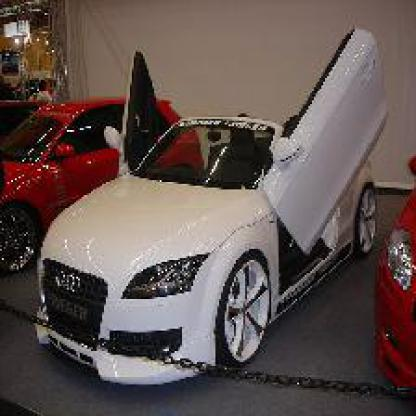not_emergency: (26, 98, 379, 372)
